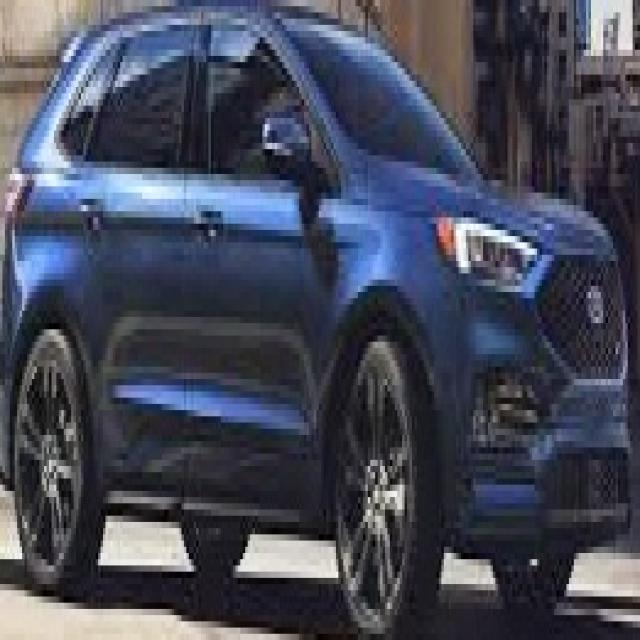blue: (0, 6, 630, 615)
